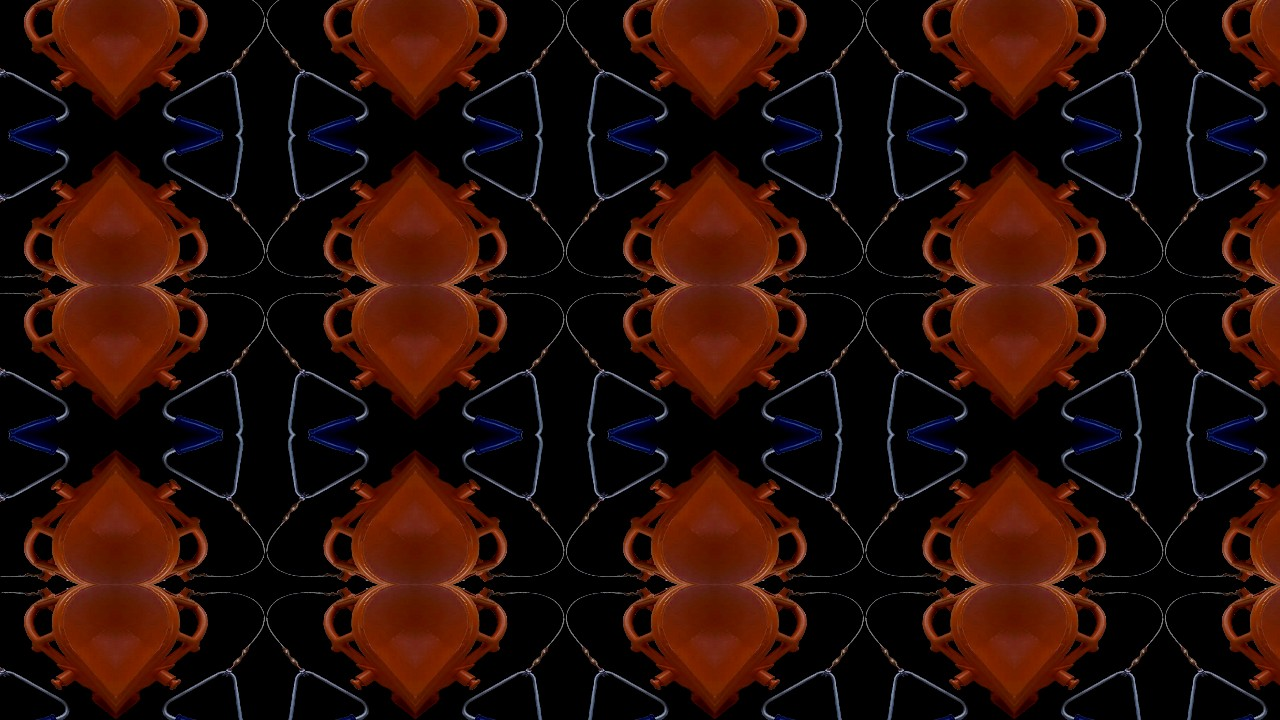chock: (1, 135, 115, 285), (115, 135, 229, 285), (301, 135, 415, 285), (415, 135, 529, 285), (601, 135, 715, 285), (715, 135, 829, 285), (901, 135, 1015, 285), (1015, 135, 1129, 285), (1, 285, 115, 435), (115, 285, 229, 435), (301, 285, 415, 435), (415, 285, 529, 435), (601, 285, 715, 435), (715, 285, 829, 435), (901, 285, 1015, 435), (1015, 285, 1129, 435), (1, 435, 115, 585), (115, 435, 229, 585), (301, 435, 415, 585), (415, 435, 529, 585), (601, 435, 715, 585), (715, 435, 829, 585), (901, 435, 1015, 585), (1015, 435, 1129, 585), (1, 0, 115, 135), (115, 0, 229, 135), (301, 0, 415, 135), (415, 0, 529, 135), (601, 0, 715, 135), (715, 0, 829, 135), (901, 0, 1015, 135), (1015, 0, 1129, 135), (1, 585, 115, 720), (115, 585, 229, 720), (301, 585, 415, 720), (415, 585, 529, 720), (601, 585, 715, 720), (715, 585, 829, 720), (901, 585, 1015, 720), (1015, 585, 1129, 720), (1201, 135, 1280, 285), (1201, 285, 1280, 435), (1201, 435, 1280, 585), (1201, 0, 1280, 135), (1201, 585, 1280, 720)
